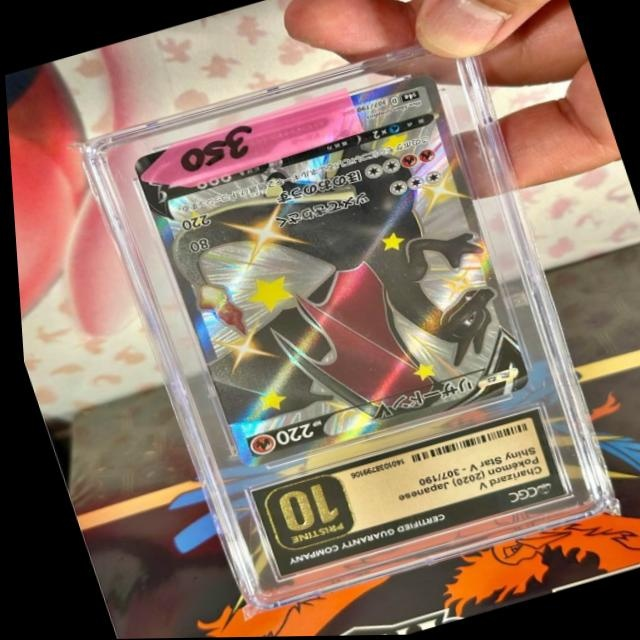card: (132, 75, 524, 468)
